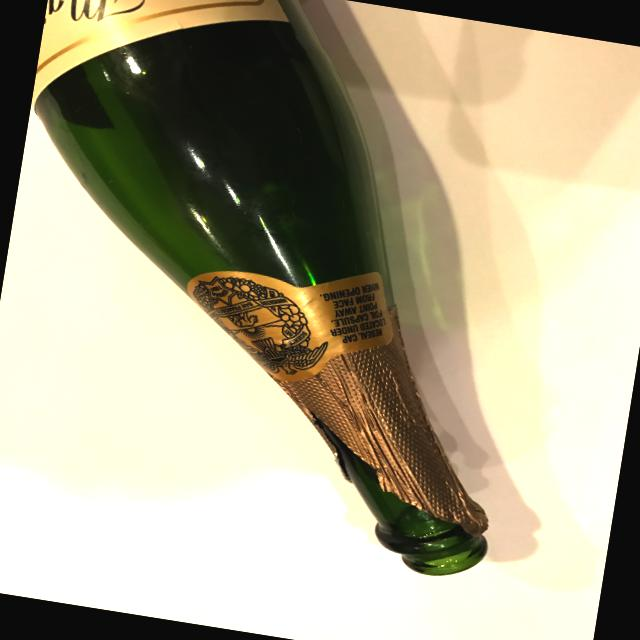Glass: (0, 0, 576, 591)
